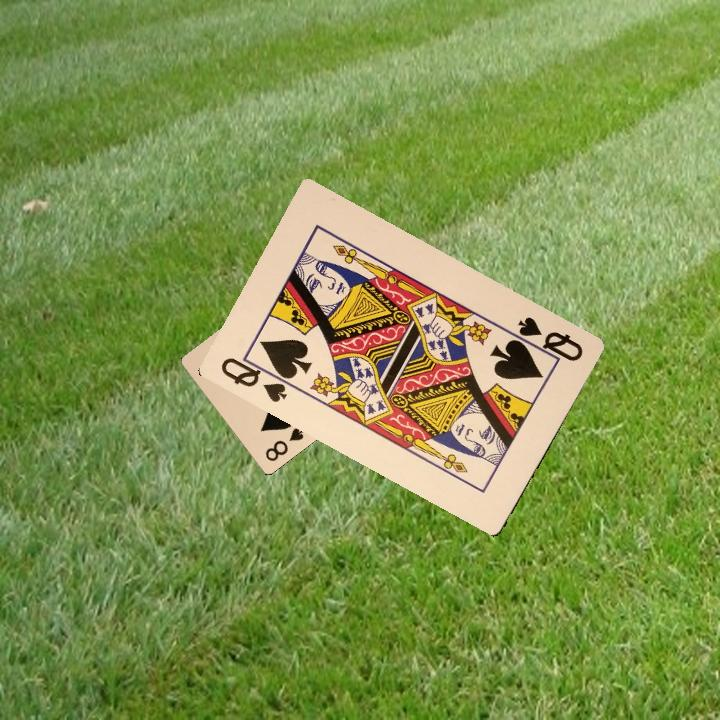8s: (261, 424, 306, 465)
Qs: (216, 350, 295, 405), (505, 312, 586, 365)
